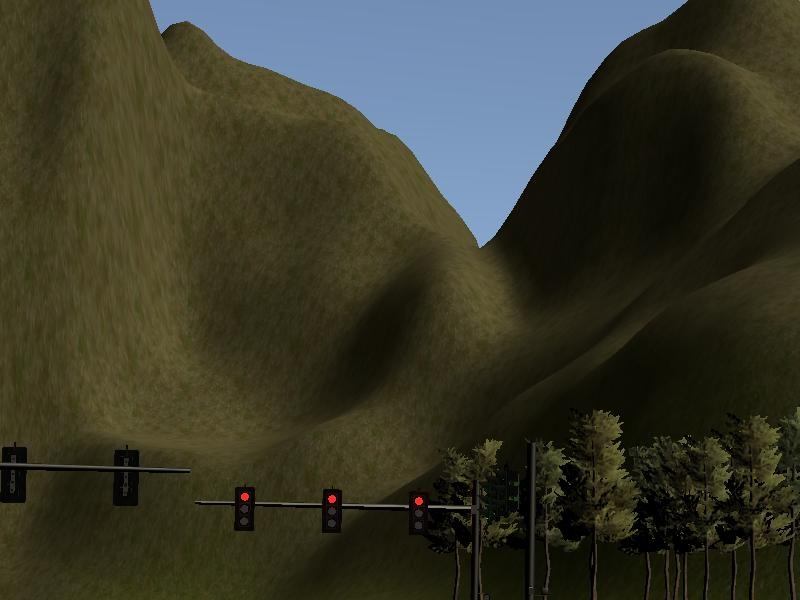red: (227, 479, 263, 538), (316, 478, 348, 538), (400, 485, 434, 541)
